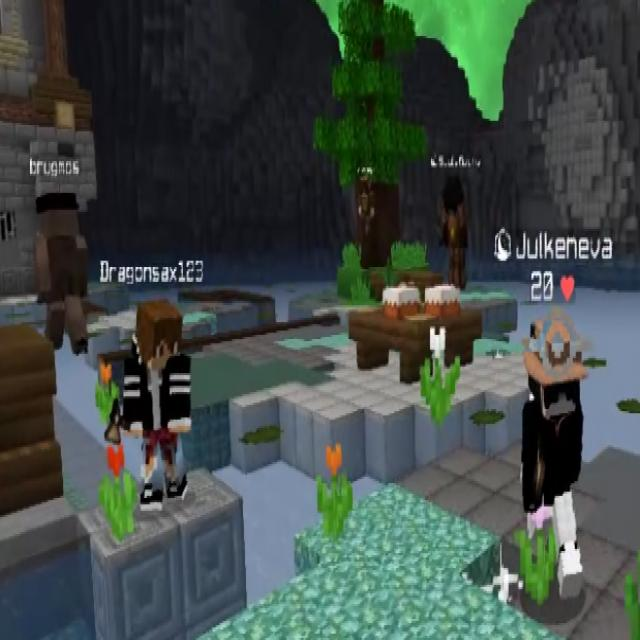Player: (521, 314, 586, 603), (121, 298, 192, 512), (32, 192, 90, 354), (439, 176, 468, 290)
